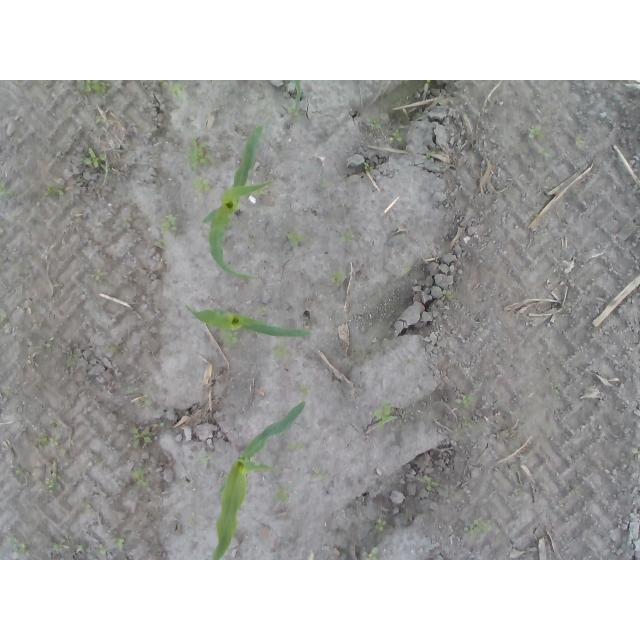Maize: (211, 401, 305, 560), (202, 126, 271, 282), (184, 305, 312, 348)
Weeds: (184, 137, 215, 176), (80, 144, 112, 176), (371, 398, 400, 432), (463, 518, 497, 543), (416, 474, 449, 497), (286, 81, 305, 119), (79, 81, 114, 100), (127, 385, 154, 407), (126, 465, 150, 487), (132, 424, 153, 449), (158, 80, 187, 98), (47, 534, 73, 551), (33, 431, 55, 450), (2, 536, 26, 553), (271, 484, 290, 505), (48, 461, 60, 493), (456, 393, 481, 408), (159, 215, 177, 235), (327, 270, 345, 288), (287, 232, 305, 249), (192, 178, 212, 193), (401, 259, 416, 279), (527, 126, 545, 142), (40, 336, 57, 352), (272, 342, 289, 358), (440, 288, 456, 305), (367, 115, 386, 129), (0, 178, 16, 194), (389, 128, 404, 145), (47, 183, 65, 197), (336, 231, 353, 245), (112, 537, 129, 551), (287, 440, 305, 452), (374, 516, 387, 532), (368, 544, 381, 560), (90, 271, 110, 281), (66, 352, 77, 369), (299, 383, 310, 399), (551, 384, 561, 401), (2, 385, 15, 398), (362, 162, 375, 175), (93, 543, 107, 555), (49, 418, 64, 429), (631, 446, 640, 464), (1, 303, 8, 326), (254, 305, 266, 317), (196, 455, 210, 465), (414, 108, 429, 117), (31, 319, 45, 328), (513, 486, 524, 497), (537, 147, 549, 157), (461, 415, 471, 426), (77, 544, 89, 553), (96, 112, 105, 124), (158, 239, 168, 249), (421, 80, 431, 90), (84, 502, 94, 512), (14, 464, 22, 476), (422, 153, 434, 161), (31, 200, 41, 208), (576, 134, 584, 144), (25, 355, 31, 366)
